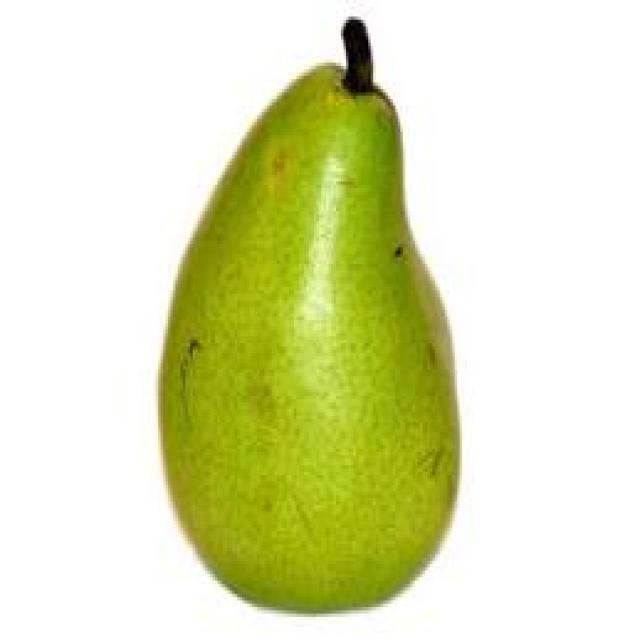pear: (146, 13, 464, 627)
